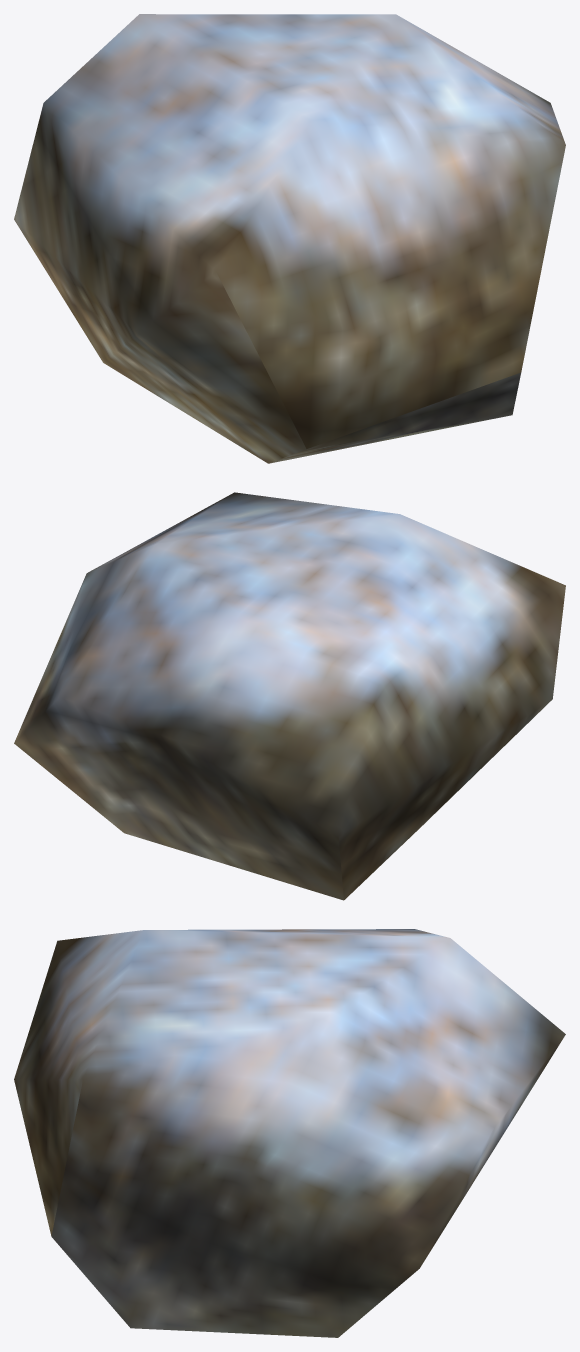
Rendered from SM_EN_2007_shitou08.FBX.
The picture shows the model from 3 angles, top to bottom: view 1: azimuth 30°, elevation 25°; view 2: azimuth 150°, elevation 25°; view 3: azimuth 270°, elevation 25°; orthographic projection. The views are drawn at different scales.
Parts seen in each view (by area): view 1: SM_EN_2007_shitou08; view 2: SM_EN_2007_shitou08; view 3: SM_EN_2007_shitou08.
Part boxes in pixels (bbox=[...]): SM_EN_2007_shitou08: bbox=[14, 14, 565, 463]; SM_EN_2007_shitou08: bbox=[14, 492, 565, 900]; SM_EN_2007_shitou08: bbox=[14, 929, 565, 1337].
Bounding box in the file's own units: 23.73 × 16.36 × 25.99.
